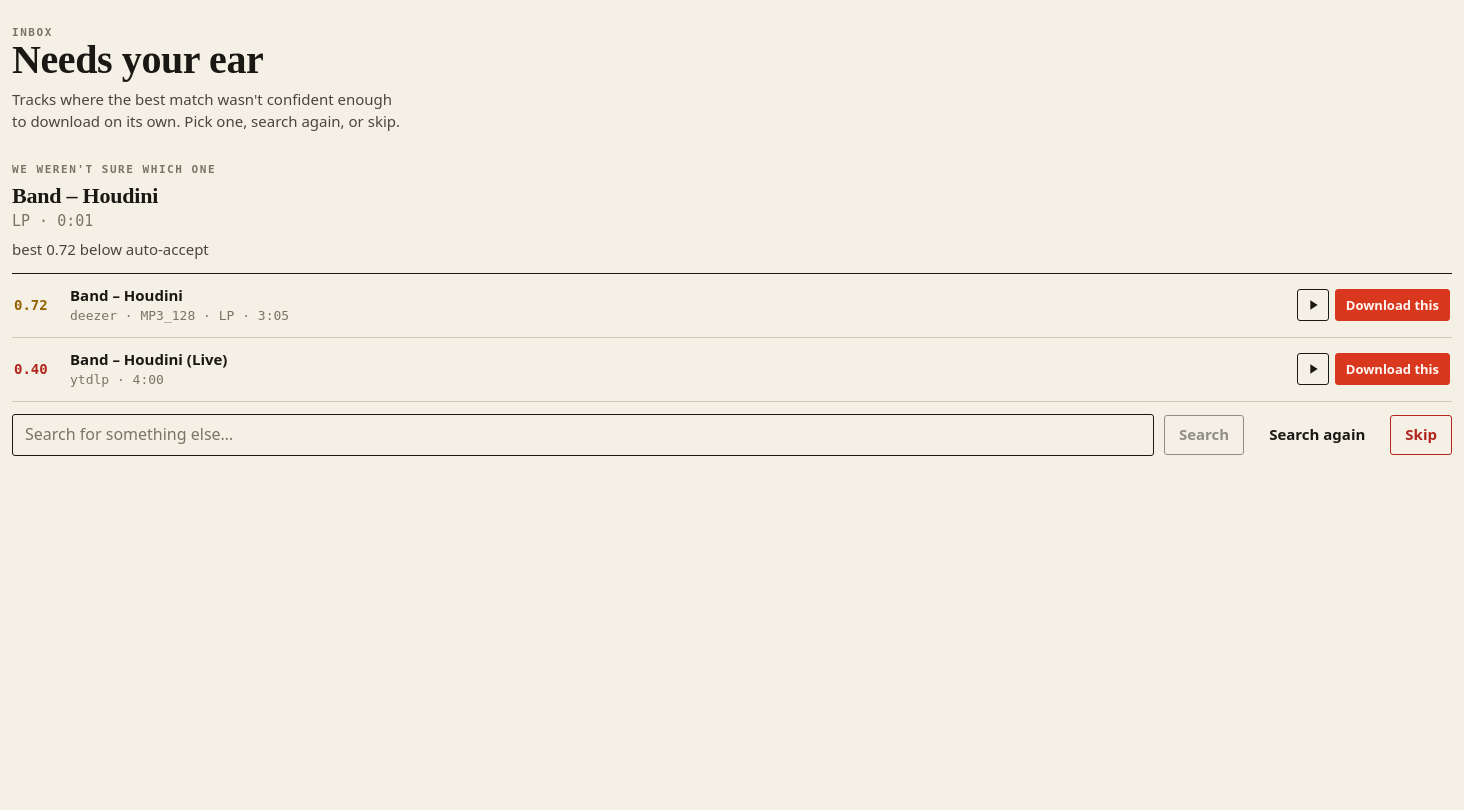
Test: inbox › also falls back to the link when the preview request itself fails
Expected: the heading "Band – Houdini" is shown, [12, 180, 158, 211]
Click the button named "Preview Band – Houdini (Live)": coordinates (1313, 369) [1297, 353, 1329, 385]
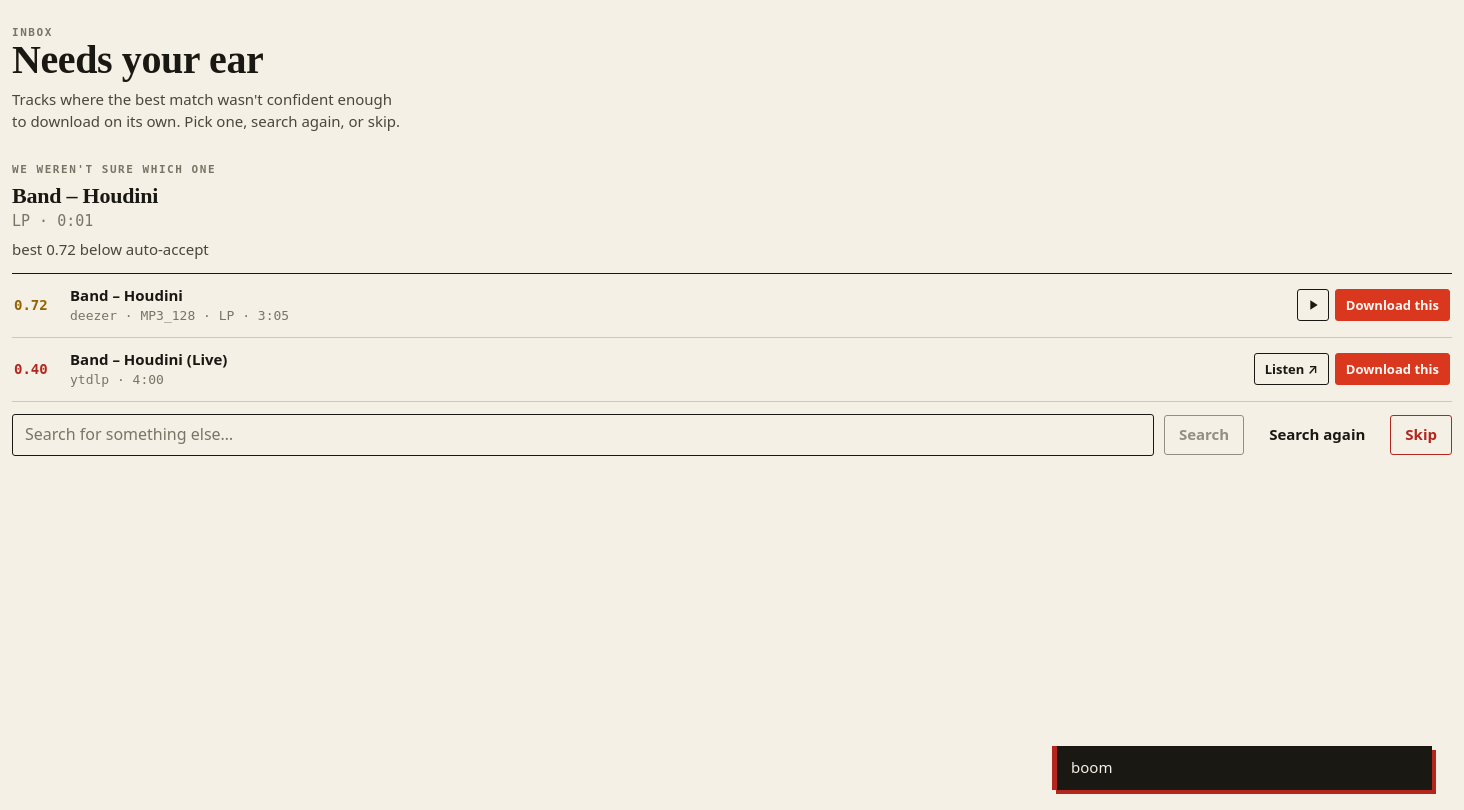
Result: the link "Listen ↗" is shown at [1254, 353, 1329, 385]
